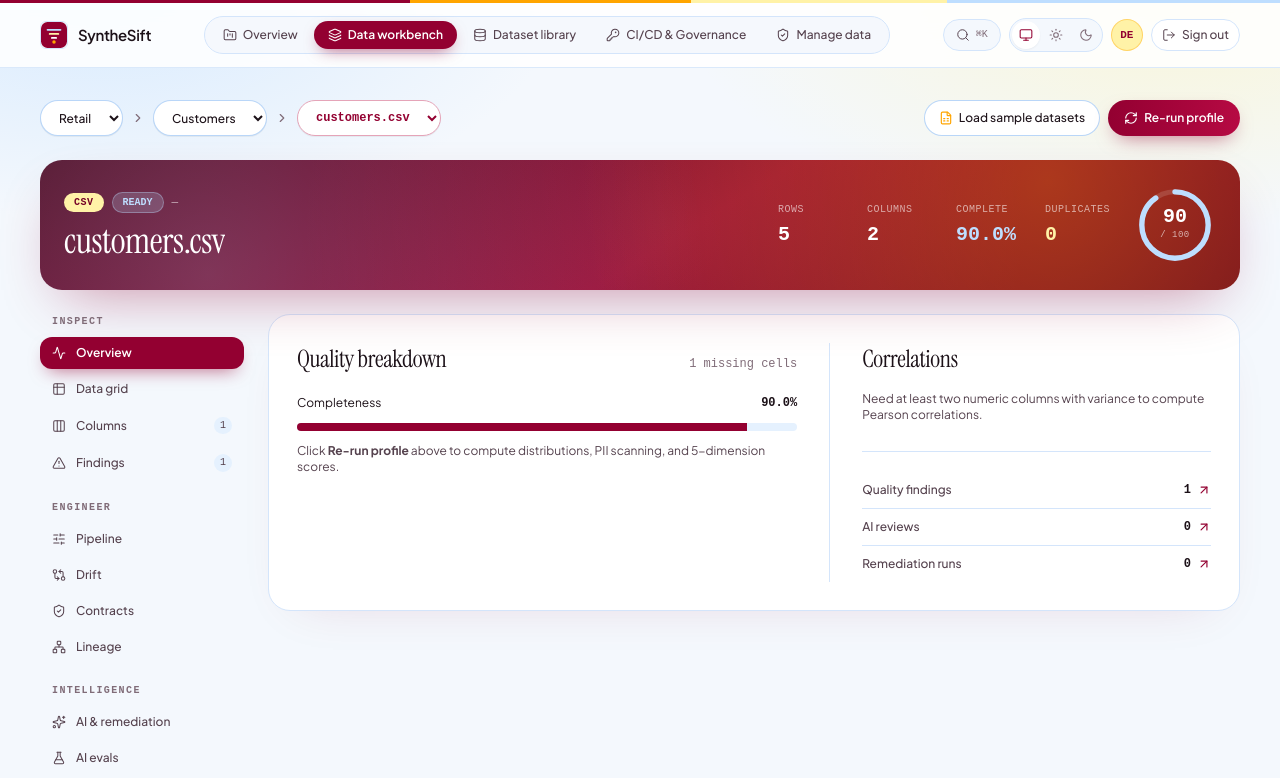
DatasetWorkbench › shows saved profile metrics, columns, findings and read-only history
This screenshot has width=1280, height=778.
Expected: the text "90.0%" below "Rows" is shown, [956,222,1016,246]
Click the tab "Columns 1".
click(142, 426)  # box [40,409,244,442]
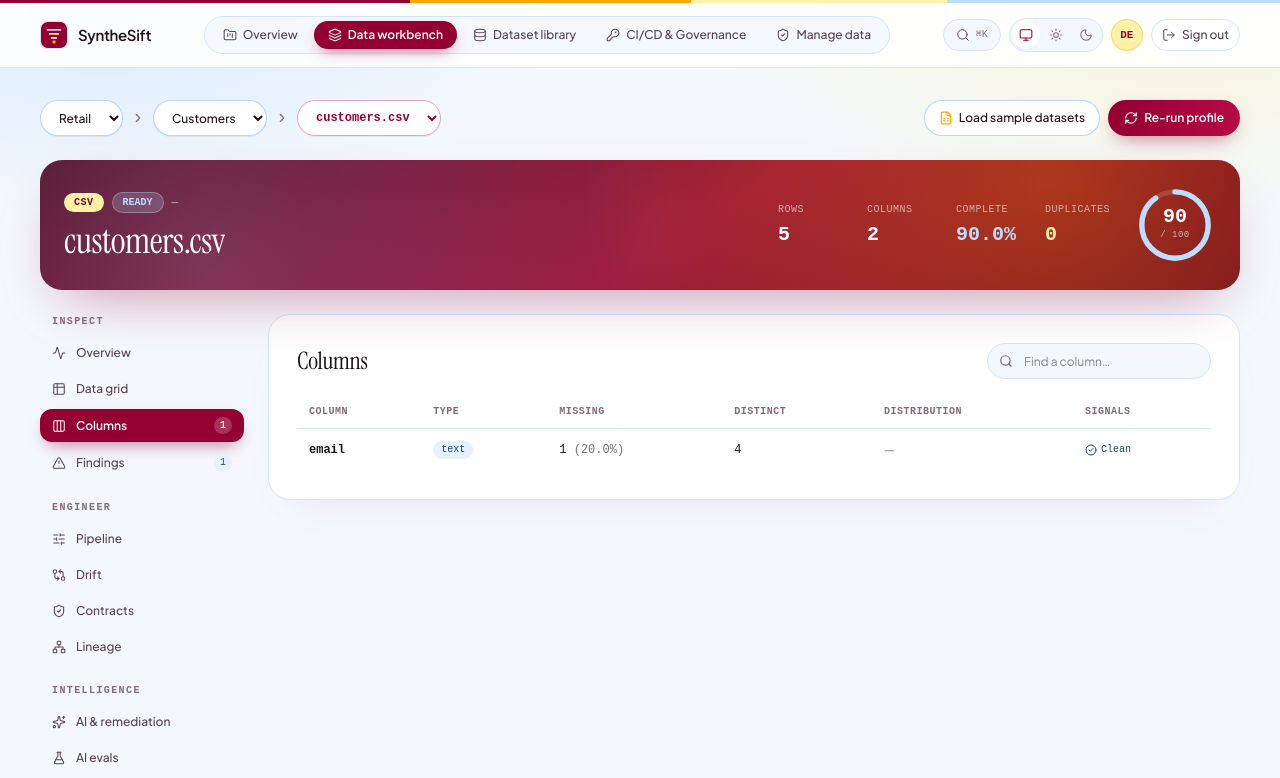
Now the text "email" is shown, box [297,429,421,471]
Click the tab "Findings 1".
click(142, 463)  # box [40,446,244,480]
(page scrolled)
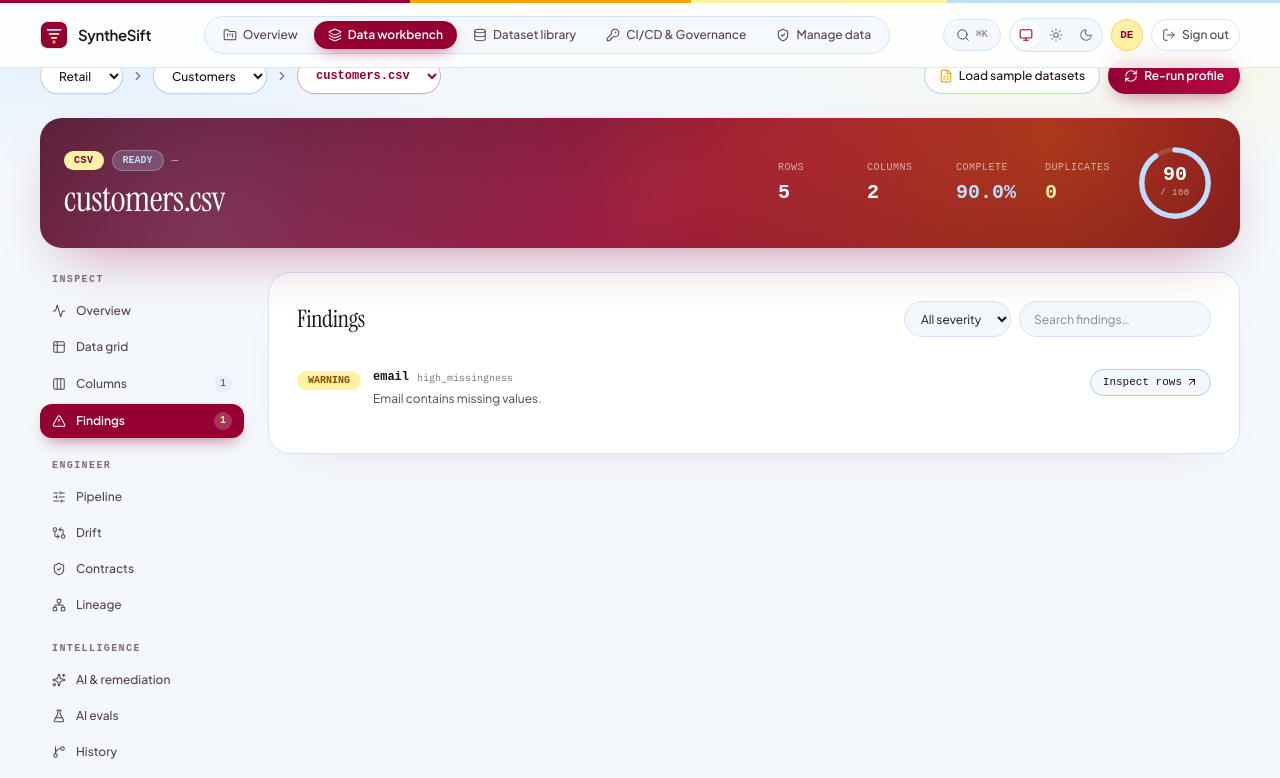
Now the text "Email contains missing values." is shown, box [373,389,542,408]
Click the tab "History".
click(142, 752)  # box [40,736,244,768]
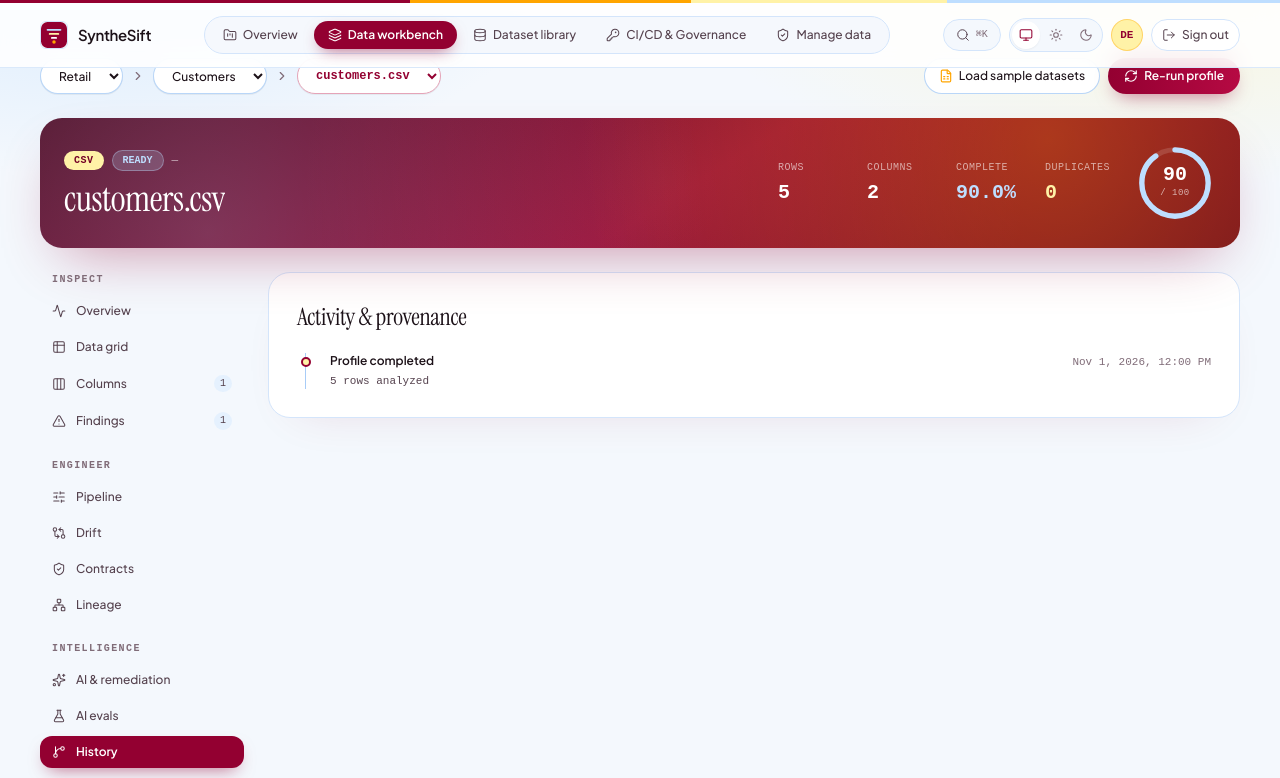
Now the text "Profile completed" is shown, box [330,353,434,369]
